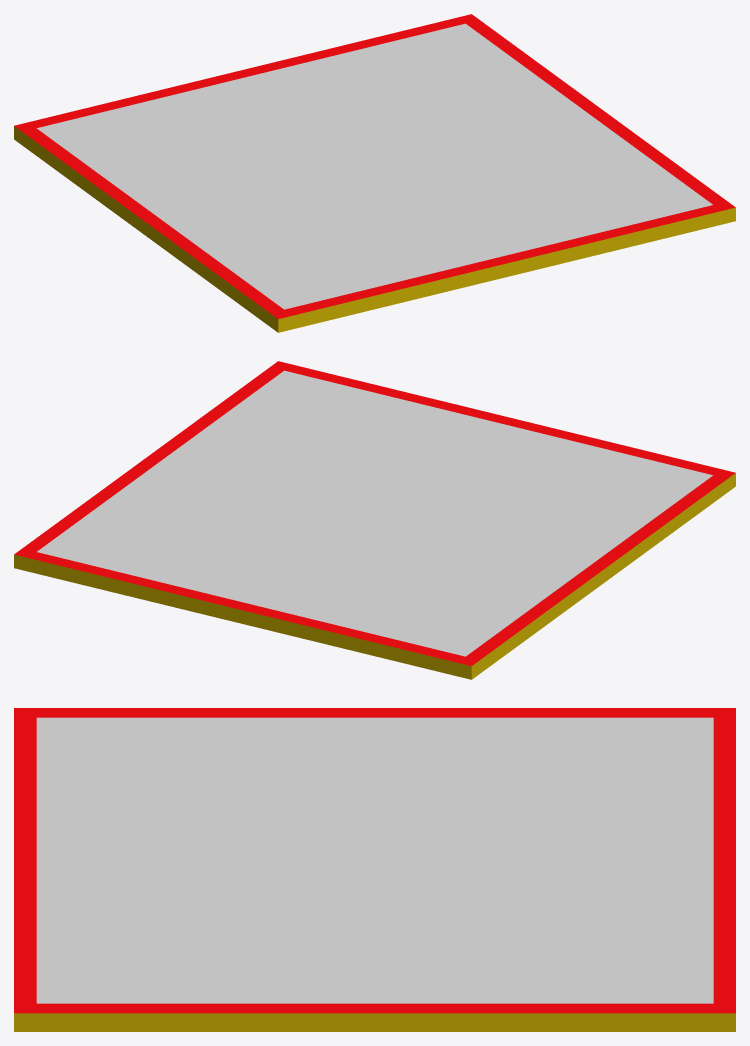
File: Arena_Floor.fbx
The picture shows the model from 3 angles, top to bottom: view 1: azimuth 30°, elevation 25°; view 2: azimuth 150°, elevation 25°; view 3: azimuth 270°, elevation 25°; orthographic projection. The views are drawn at different scales.
Visible parts, largest first — view 1: Cube; view 2: Cube; view 3: Cube.
Part boxes in pixels (<box>): Cube: <box>14,14,735,332</box>; Cube: <box>14,361,735,679</box>; Cube: <box>14,708,735,1031</box>.
Bounding box in the file's own units: 14000 × 400 × 14000.
